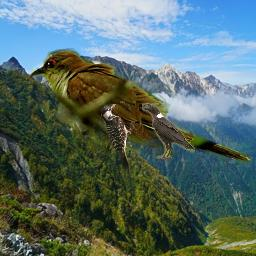Crow: (142, 103, 195, 159)
Cuckoo: (29, 48, 253, 165)
Woodpecker: (101, 104, 136, 174)
